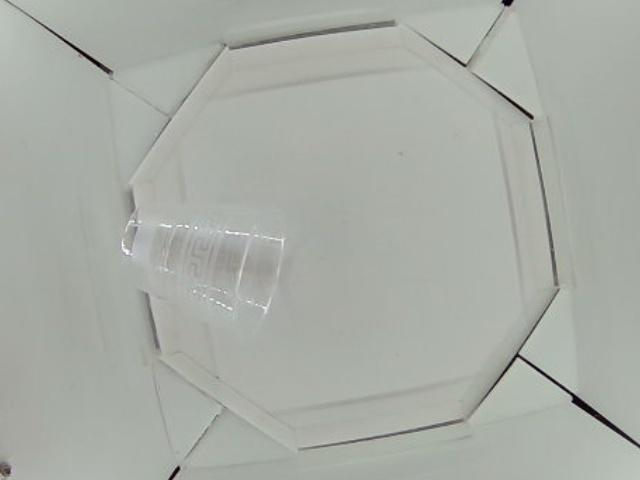Cup: (118, 203, 286, 322)
